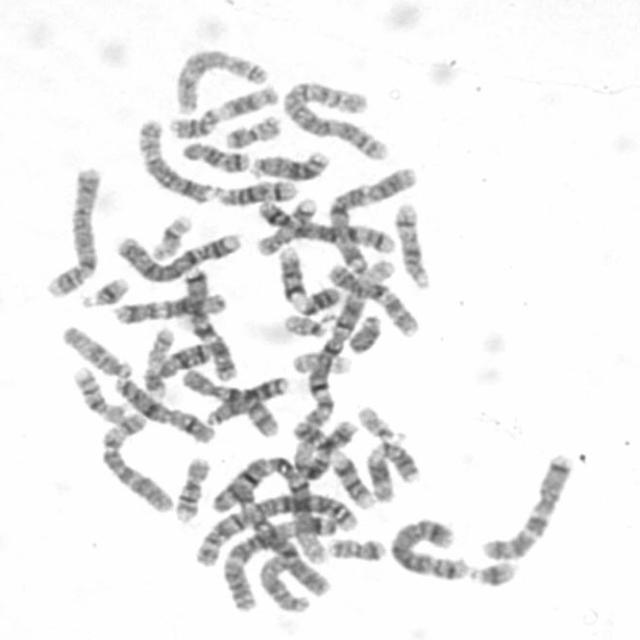A1: (298, 254, 399, 433), (202, 448, 332, 574)
A2: (188, 488, 360, 570), (276, 74, 392, 162)
A3: (217, 496, 337, 614), (323, 160, 420, 277)
B4: (39, 160, 105, 300), (111, 225, 244, 284)
B5: (252, 193, 399, 255), (386, 512, 472, 582)
C10: (323, 258, 424, 338), (177, 364, 280, 438)
C11: (162, 78, 280, 140), (362, 436, 424, 503)
C12: (288, 414, 362, 482), (108, 287, 228, 325)
C6: (236, 496, 326, 610), (95, 406, 177, 514)
C7: (476, 448, 576, 562), (177, 260, 241, 382)
C8: (133, 113, 216, 205), (169, 43, 272, 114)
C9: (288, 415, 378, 511), (274, 240, 344, 316)
D13: (199, 370, 291, 427), (244, 144, 332, 182)
D14: (390, 196, 434, 291), (211, 173, 300, 207)
D15: (56, 319, 134, 380), (253, 544, 314, 615)
E16: (67, 360, 130, 425), (168, 451, 212, 523)
E17: (253, 192, 321, 258), (136, 322, 177, 398)
E18: (177, 135, 251, 174), (151, 337, 214, 381)
F19: (144, 208, 196, 262), (286, 345, 354, 375)
F20: (219, 108, 285, 150), (323, 532, 387, 562)
G21: (75, 270, 132, 309), (464, 554, 521, 588)
G22: (353, 399, 408, 444), (278, 307, 332, 338)
X: (107, 372, 216, 444), (177, 364, 280, 438)
Y: (342, 308, 384, 355)
